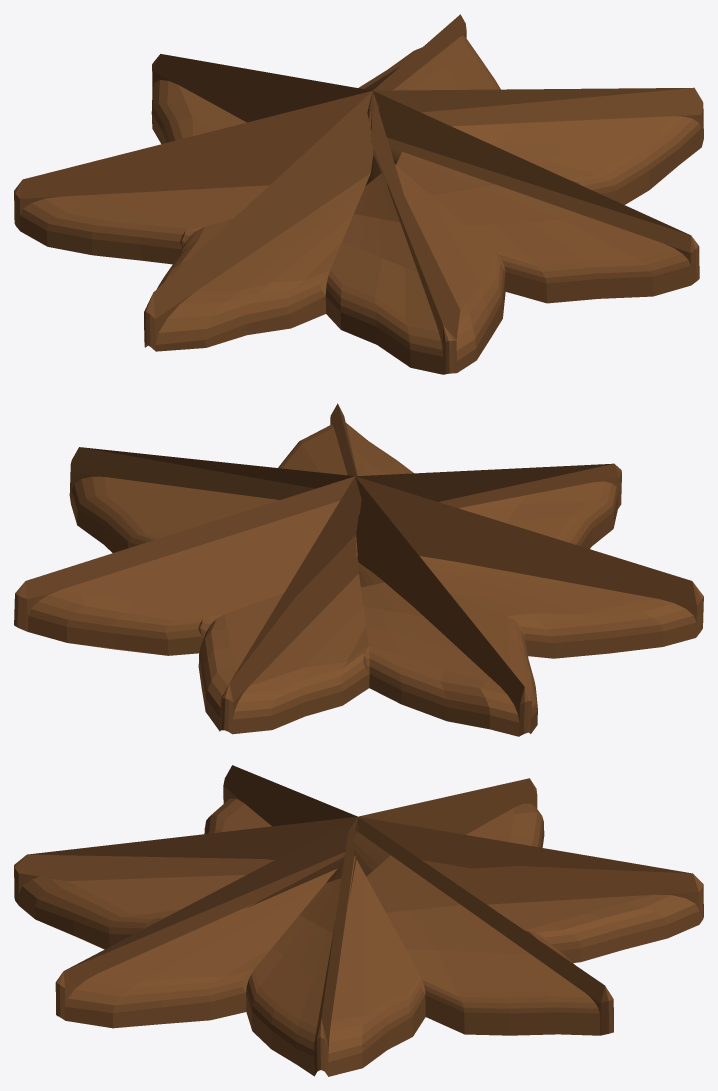
Rendered from momiji.glb.
3 views of the same model, one above another, from view 1: azimuth 30°, elevation 25°; view 2: azimuth 150°, elevation 25°; view 3: azimuth 270°, elevation 25° (orthographic). The views are drawn at different scales.
Visible parts, largest first — view 1: Circle.001; view 2: Circle.001; view 3: Circle.001.
Boxes of the visible parts, x1,y1,x2,y2 form: Circle.001: [14, 14, 703, 374]; Circle.001: [14, 403, 703, 736]; Circle.001: [14, 765, 703, 1076].
Bounding box in the file's own units: 1.72 × 0.3904 × 1.73.
